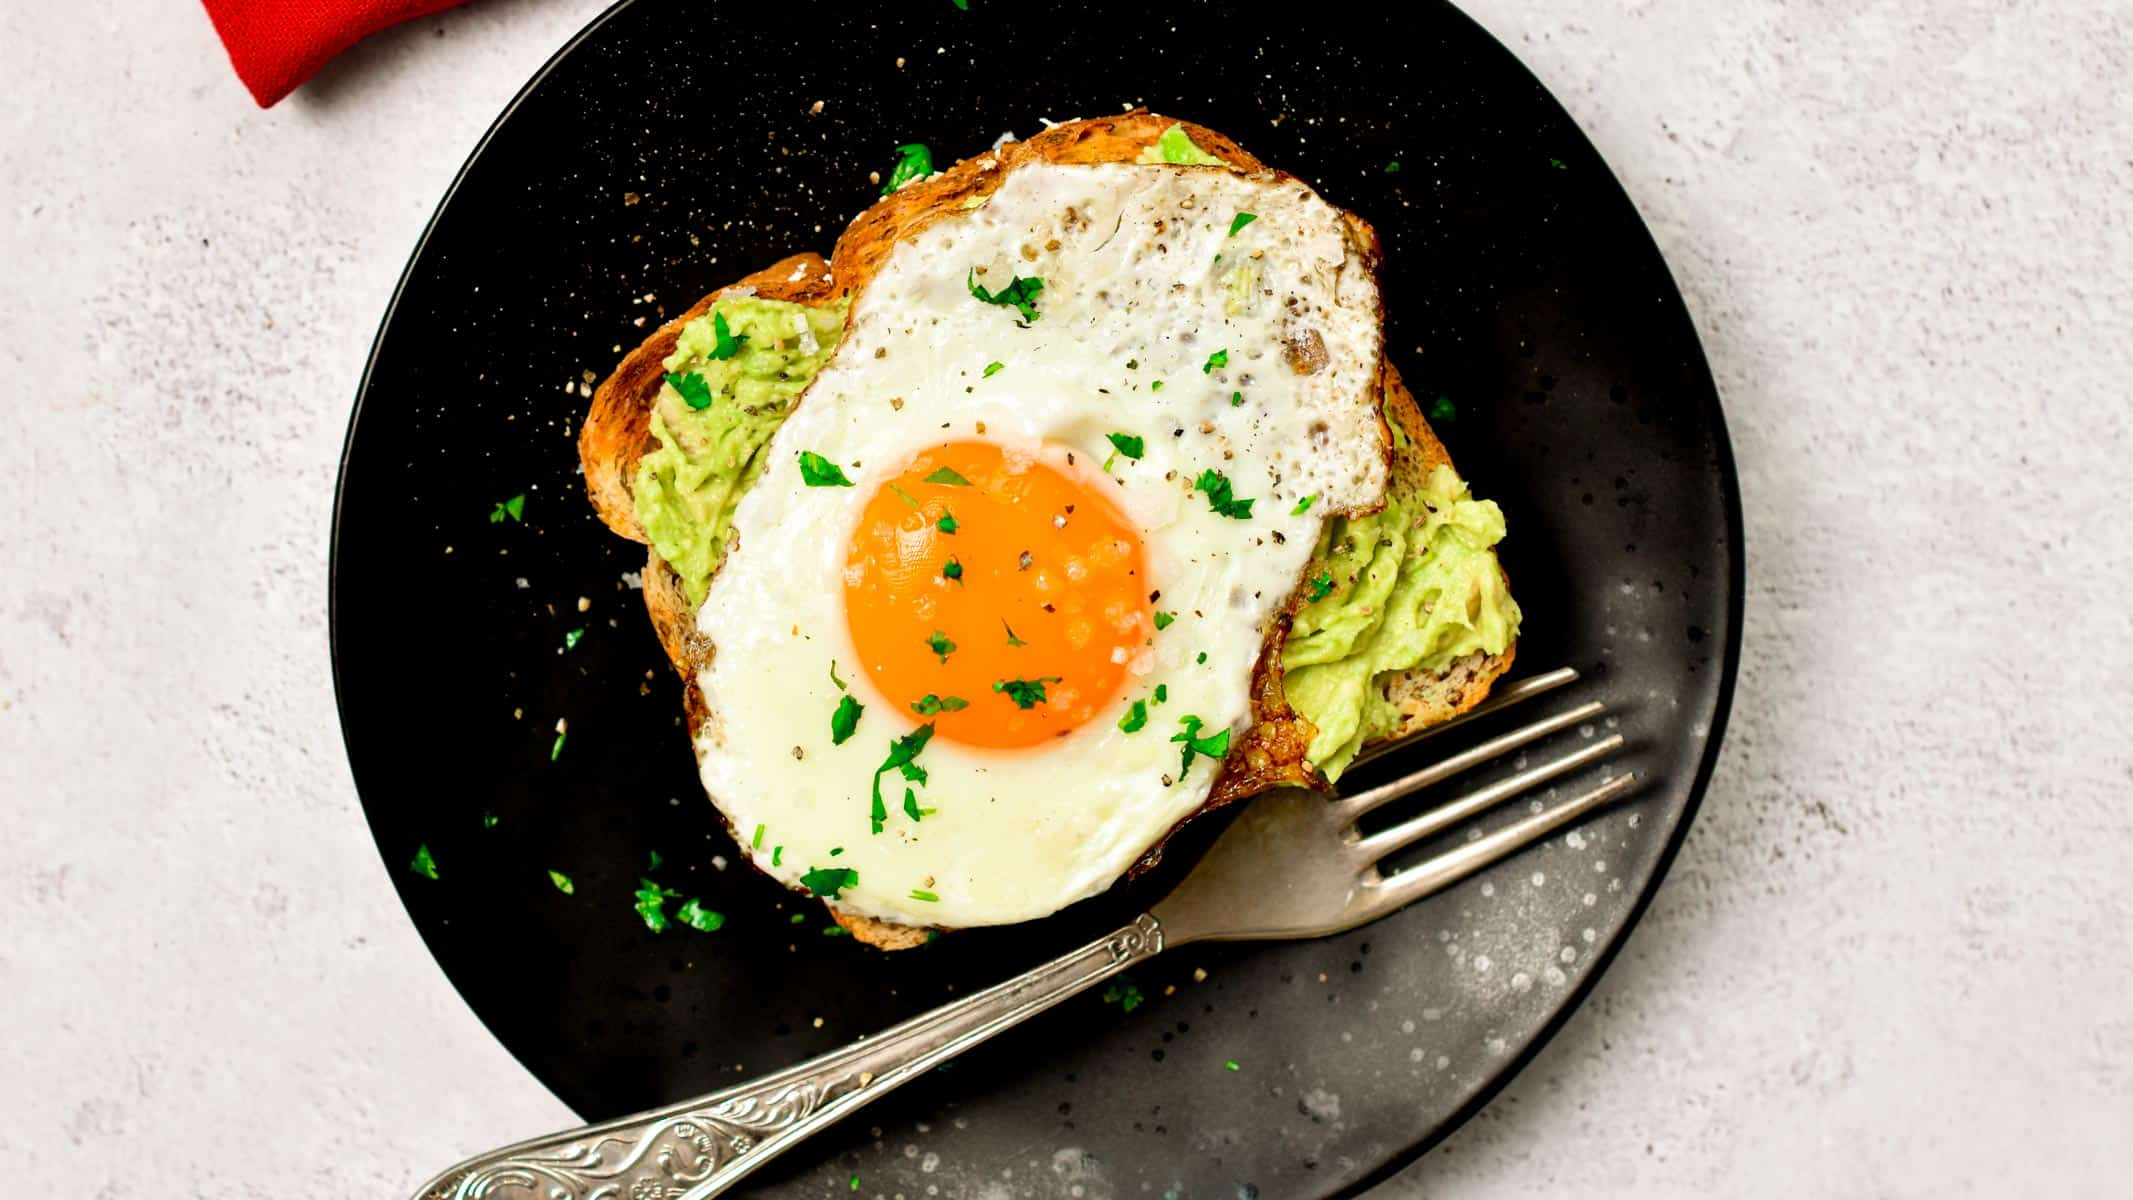Sunny Side Up: (696, 160, 1381, 920)
